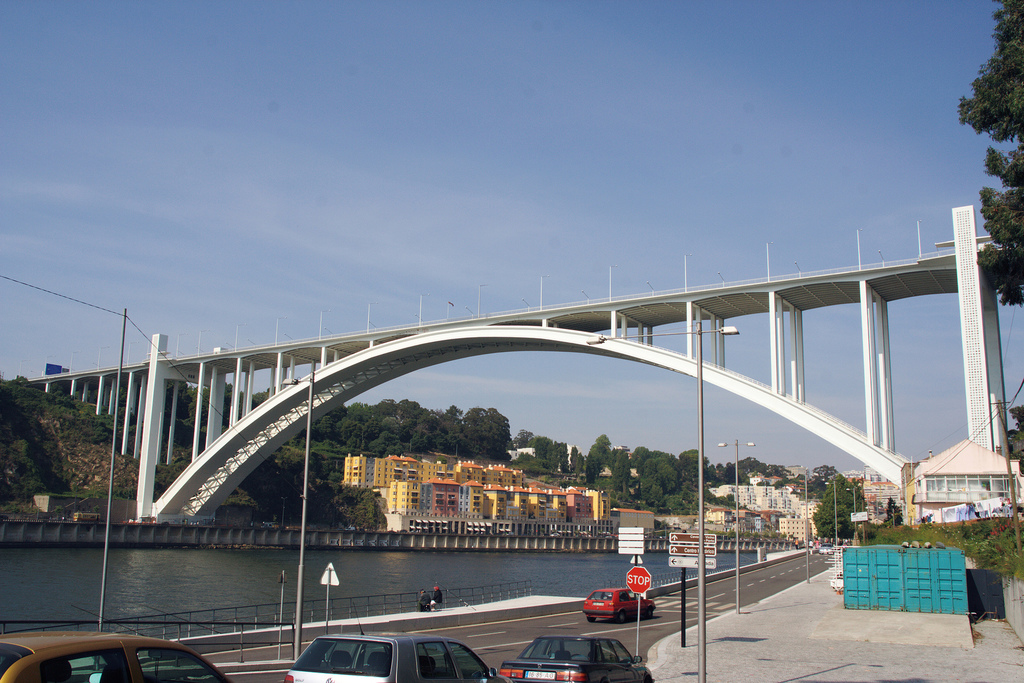arrabida: (0, 202, 1023, 525)
